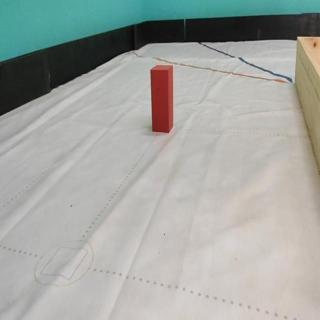redbox: (150, 63, 175, 132)
